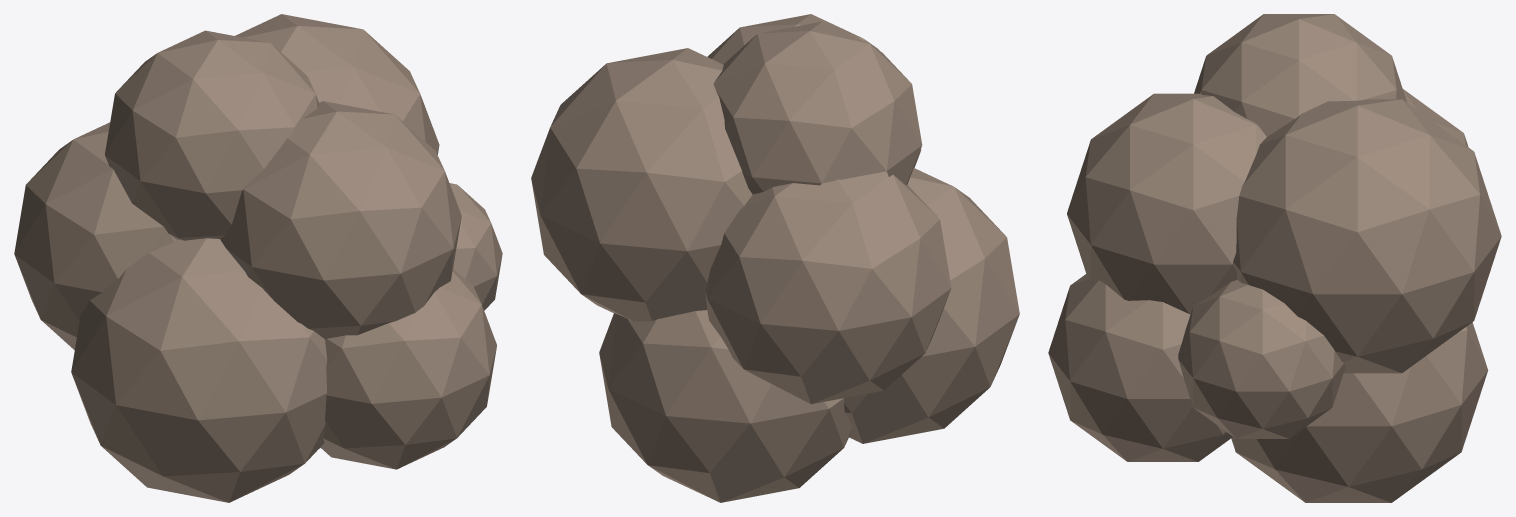
The model's file is Smoke.fbx.
The picture shows the model from 3 angles, left to right: view 1: azimuth 30°, elevation 25°; view 2: azimuth 150°, elevation 25°; view 3: azimuth 270°, elevation 25°; orthographic projection.
Visible parts, largest first — view 1: Icosphere.002; view 2: Icosphere.002; view 3: Icosphere.002.
Boxes of the visible parts, left/top/right/bottom form: Icosphere.002: left=14, top=14, right=502, bottom=502; Icosphere.002: left=531, top=14, right=1019, bottom=502; Icosphere.002: left=1048, top=14, right=1501, bottom=502.
Bounding box in the file's own units: 97.13 × 104 × 93.84.
